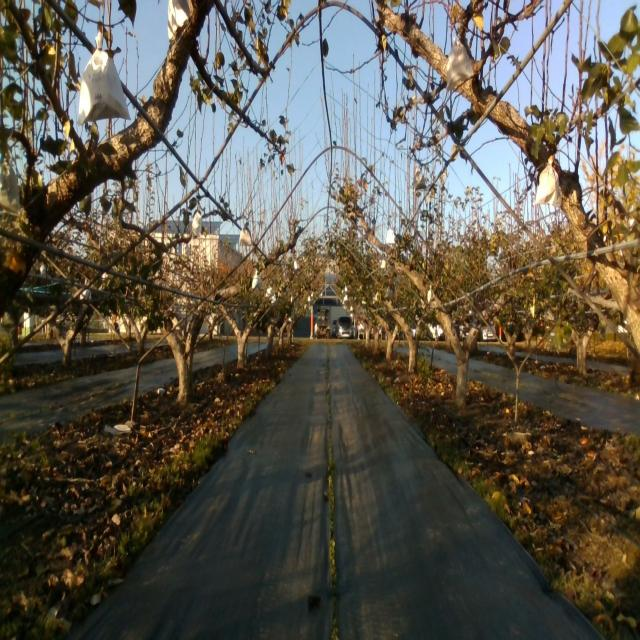pearbags: (77, 31, 132, 122), (444, 35, 474, 89), (535, 156, 563, 207), (0, 154, 22, 216), (167, 0, 190, 41), (412, 165, 426, 192), (192, 212, 202, 238), (239, 226, 252, 246)
